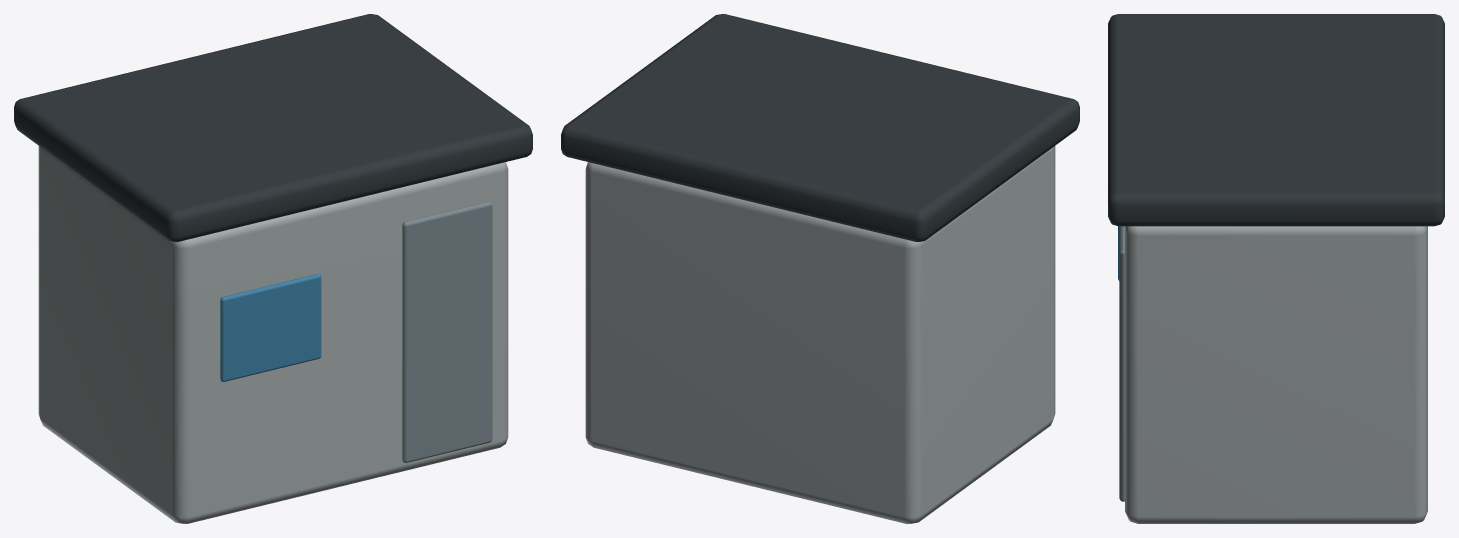
The model's file is Environment_Roadside_Utility_Shelter.fbx.
3 views of the same model, side by side, from view 1: azimuth 30°, elevation 25°; view 2: azimuth 150°, elevation 25°; view 3: azimuth 270°, elevation 25° (orthographic). The views are drawn at different scales.
Visible parts, largest first — view 1: Shelter_Body, Shelter_Roof, Shelter_Door, Shelter_Window; view 2: Shelter_Body, Shelter_Roof; view 3: Shelter_Body, Shelter_Roof, Shelter_Door.
Part boxes in pixels (box(x1,y1,x2,y2)): Shelter_Body: box(38, 146, 508, 523); Shelter_Roof: box(14, 14, 532, 241); Shelter_Door: box(402, 201, 492, 462); Shelter_Window: box(220, 274, 321, 381); Shelter_Body: box(585, 146, 1055, 523); Shelter_Roof: box(561, 14, 1079, 241); Shelter_Body: box(1125, 226, 1427, 523); Shelter_Roof: box(1108, 14, 1444, 226); Shelter_Door: box(1119, 226, 1124, 501).
Size of the model in its own units: 2.62 by 2.23 by 2.
